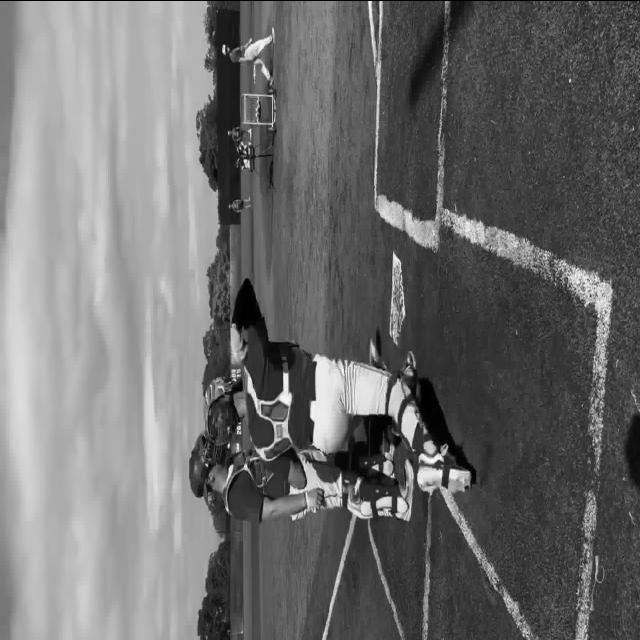base: (388, 255, 409, 341)
shoe: (417, 442, 472, 493), (395, 458, 414, 522), (398, 350, 420, 401), (380, 434, 394, 478), (268, 74, 274, 86), (270, 27, 274, 44)
